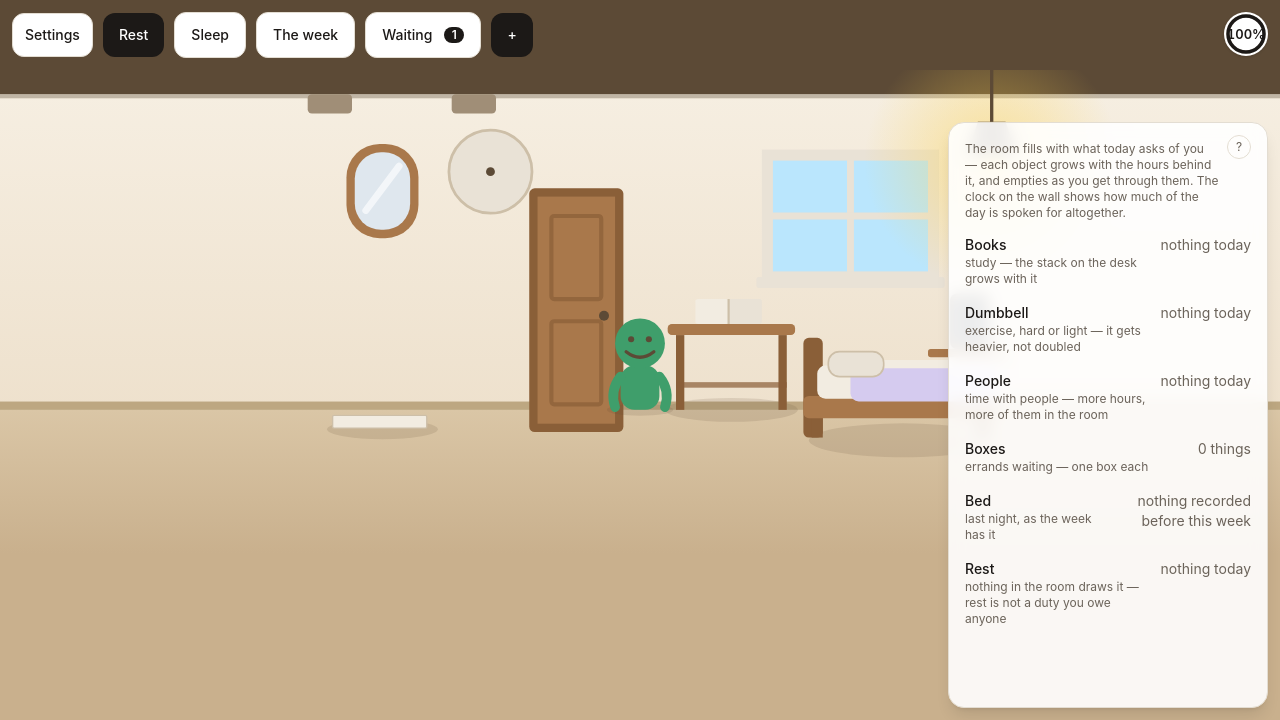
it: every sheet in the app puts its actions in the pinned bar › the settings sheet: Sign out is in the bar, not loose in the body
This screenshot has width=1280, height=720.
Click the button with test id "open-settings". click: (52, 35)
box: [12, 13, 93, 57]
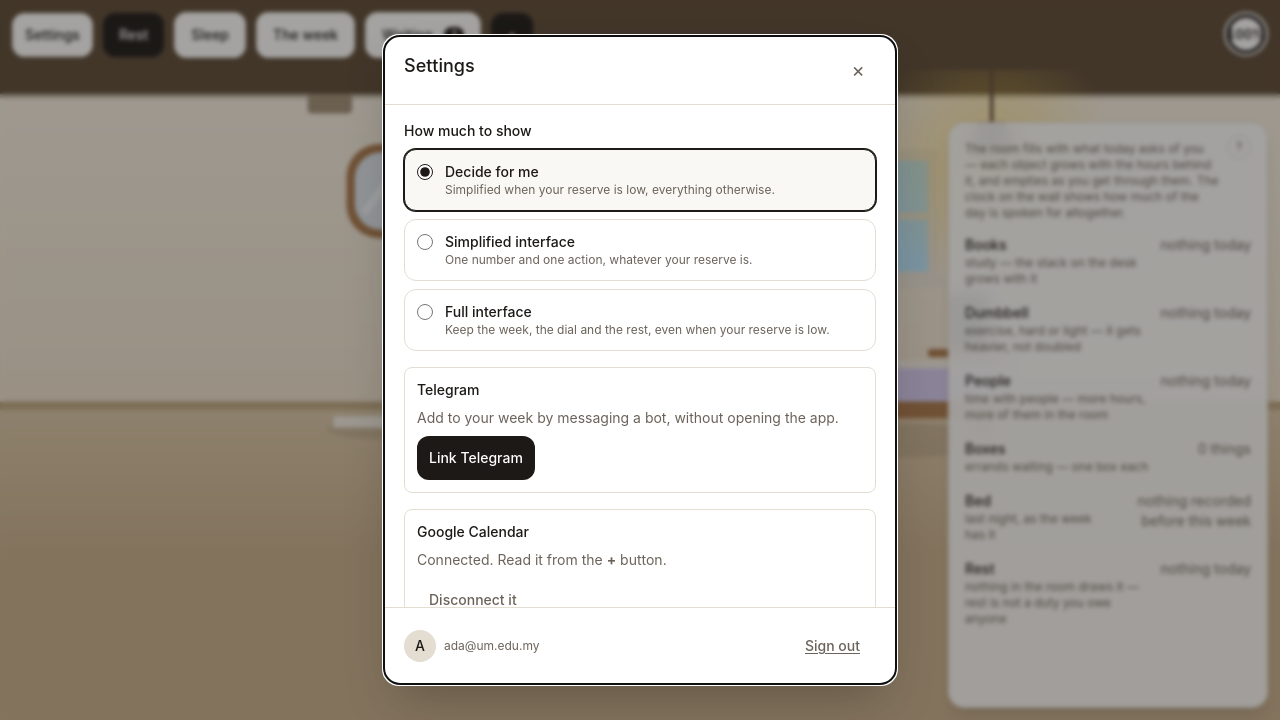
Result: the dialog "Settings" is shown at [384, 36, 896, 684]
Result: the button "Sign out" is shown at [789, 624, 876, 668]
